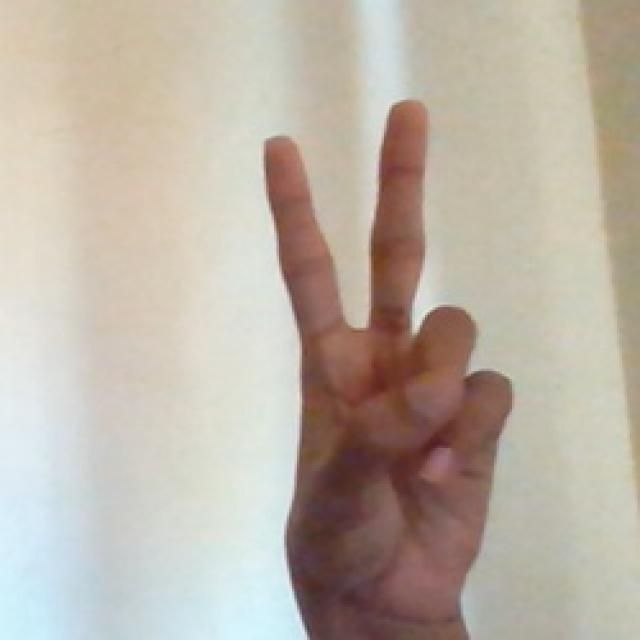Numeric-2: (251, 84, 519, 618)
